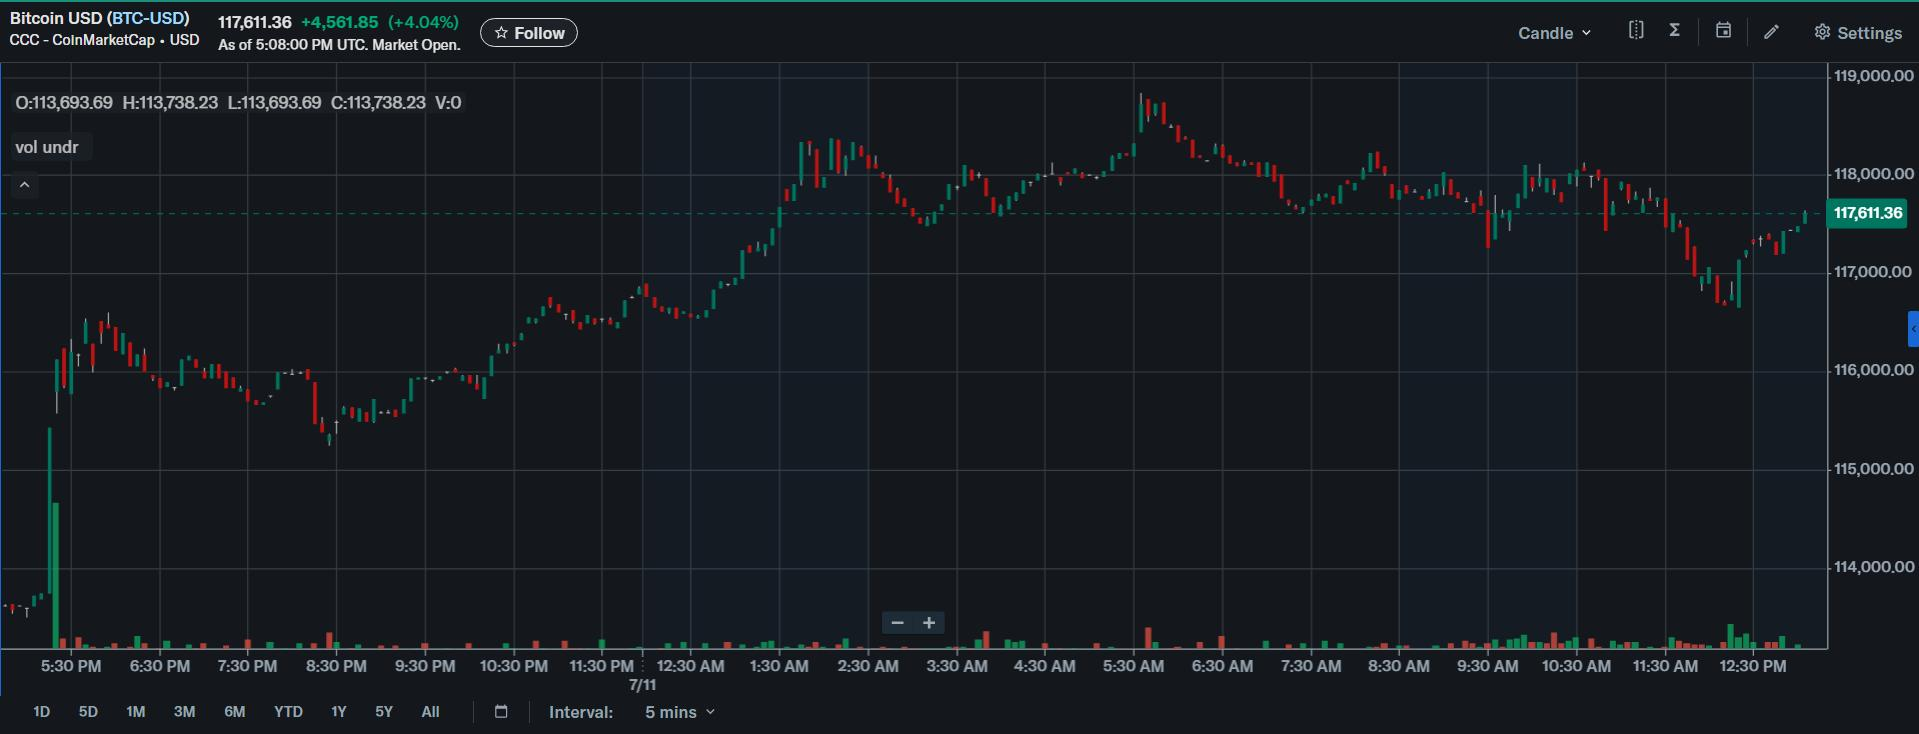Downtrend: (1139, 87, 1302, 231), (1626, 181, 1735, 334), (830, 127, 934, 243)
Sideways: (1481, 147, 1618, 269), (170, 349, 322, 409)
Uptrend: (346, 297, 552, 431), (693, 133, 809, 367), (995, 141, 1130, 226)
